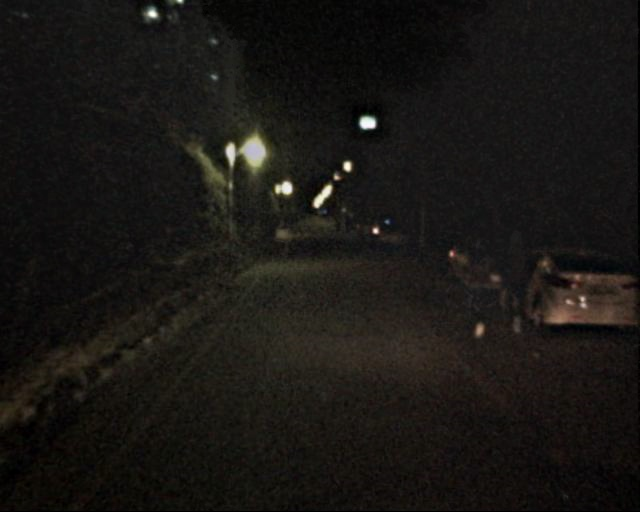person: (495, 224, 540, 336), (457, 237, 502, 339), (274, 219, 290, 261), (361, 218, 378, 254), (333, 219, 355, 243)
